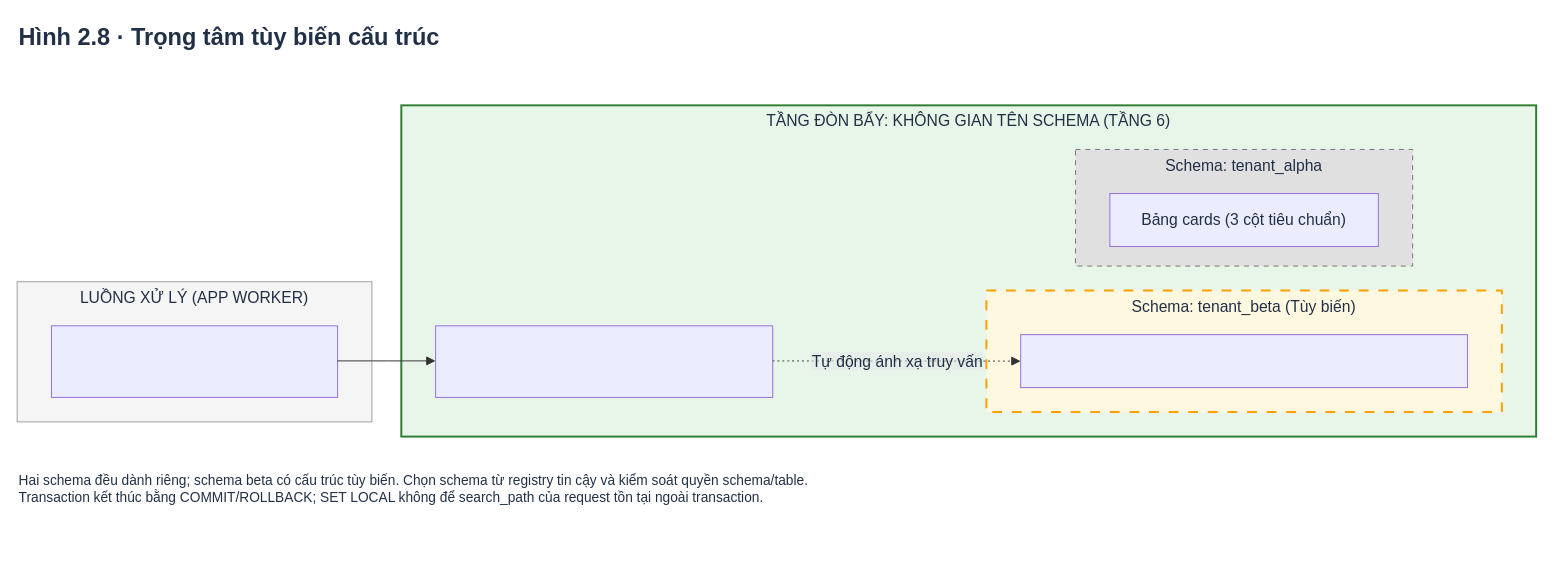
The diagram is 1554 pixels wide and 580 high, and some of its shapes have lost their labels. Each missing label, with the centre of its shape:
"Bảng cards (3 cột tiêu chuẩn + 2 CỘT TÙY BIẾN RIÊNG)" belongs at point (1244, 361).
"Trong transaction: SET LOCAL search_path = tenant_beta, pg_catalog;" belongs at point (604, 361).
"Worker Thread (Tenant Context = 'tenant_beta')" belongs at point (194, 361).
